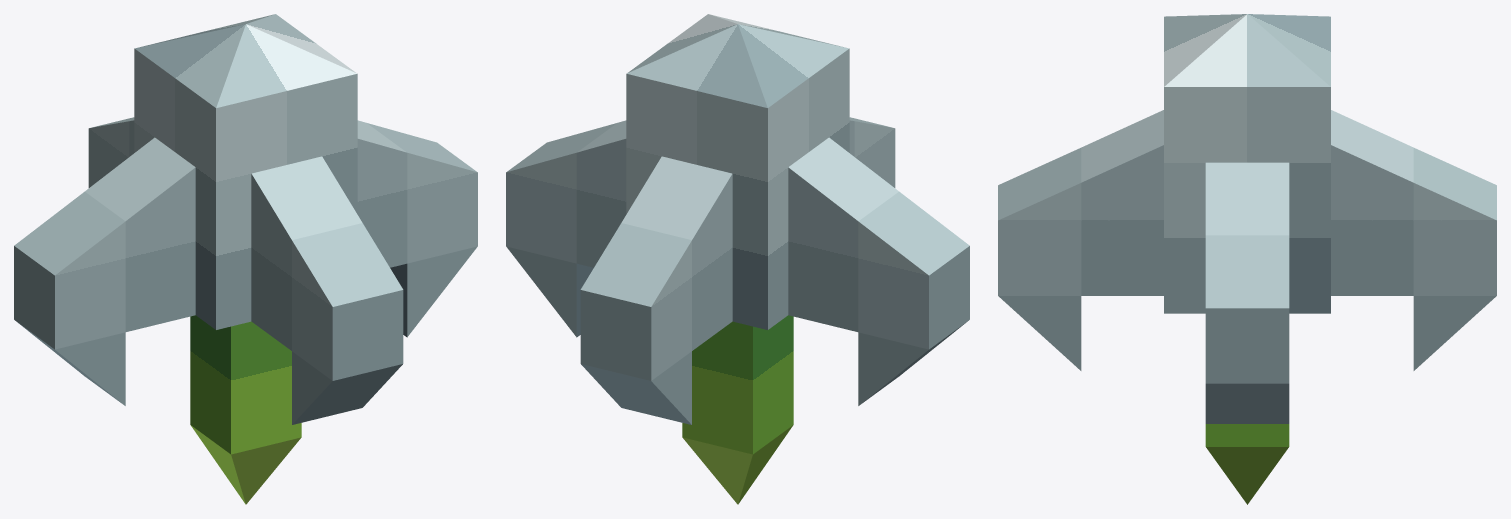
The model's file is experience_exchanger_body.obj.
3 renders of one model, left to right at view 1: azimuth 30°, elevation 25°; view 2: azimuth 150°, elevation 25°; view 3: azimuth 270°, elevation 25°, orthographic. The views are drawn at different scales.
Parts seen in each view (by area): view 1: Plane; view 2: Plane; view 3: Plane.
Boxes of the visible parts, box(x1,y1,x2,y2) form: Plane: box(14, 14, 477, 504); Plane: box(506, 14, 969, 504); Plane: box(998, 14, 1496, 504).
Size of the model in its own units: 0.374 by 0.4062 by 0.374.
